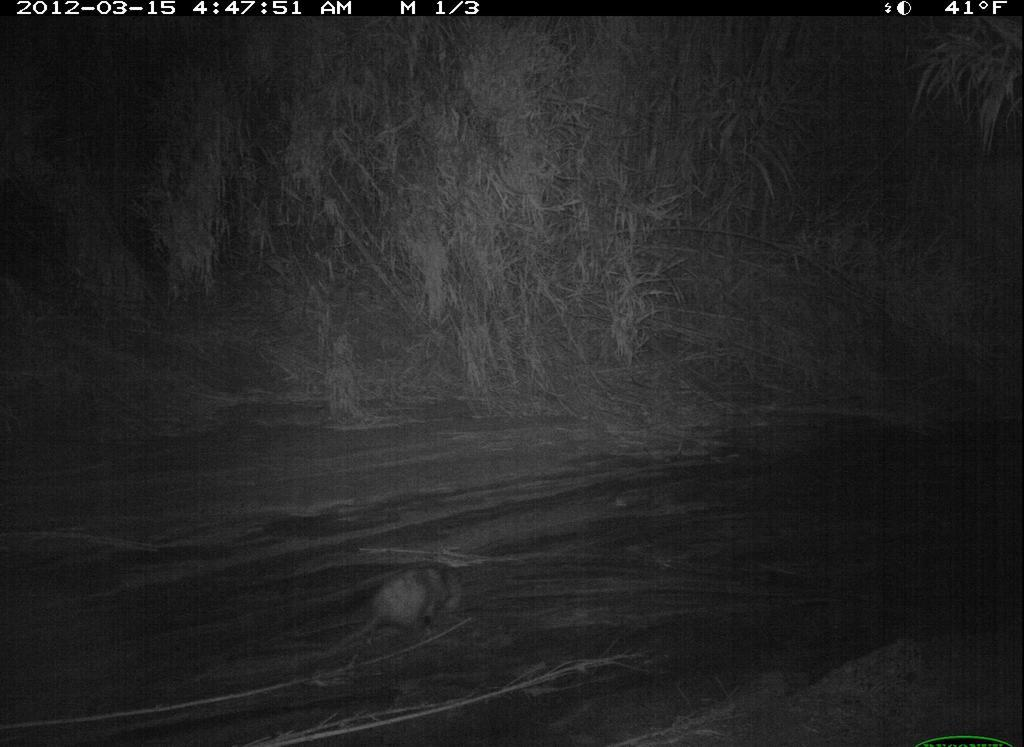opossum: (318, 553, 482, 664)
